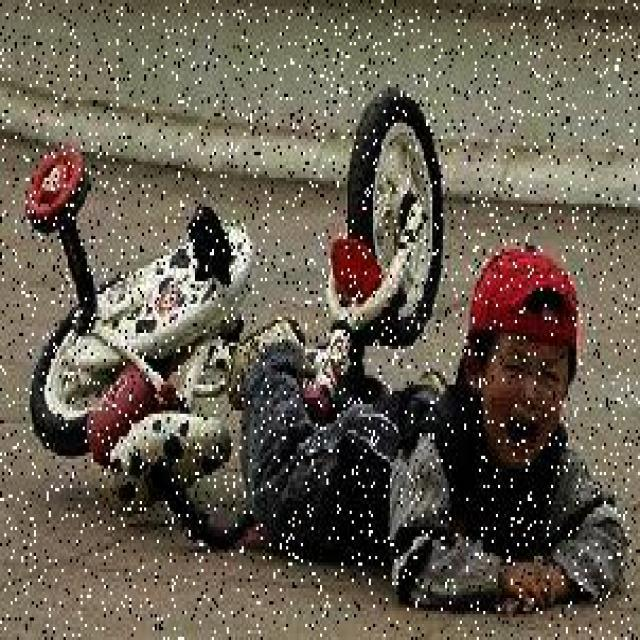fall: (242, 282, 636, 594)
